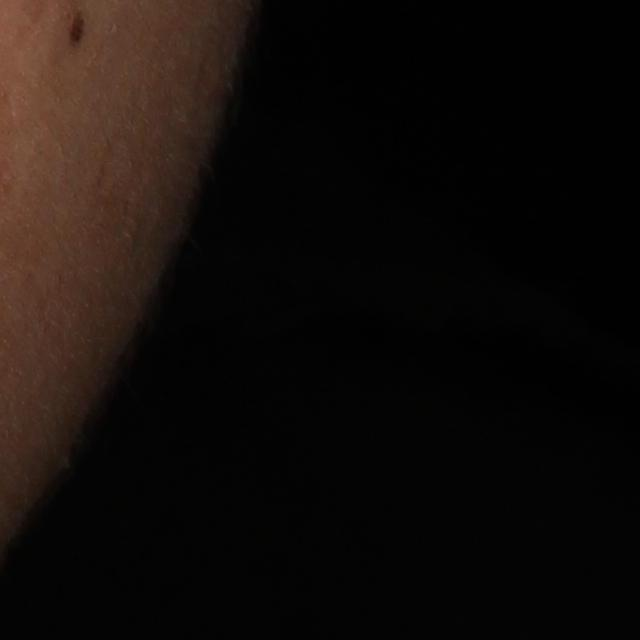nevus: (67, 8, 87, 57)
